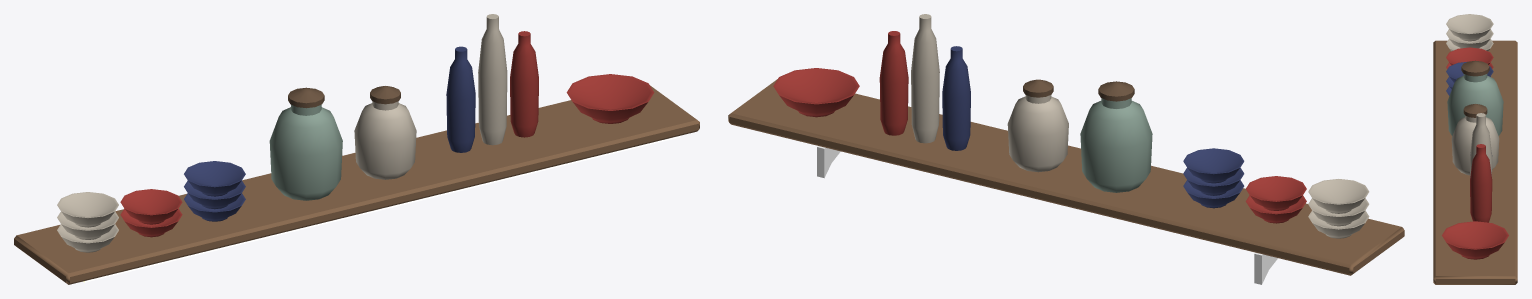
The model's file is deco_wall_shelf_2.glb.
3 renders of one model, left to right at view 1: azimuth 30°, elevation 25°; view 2: azimuth 150°, elevation 25°; view 3: azimuth 270°, elevation 25°, orthographic. The views are drawn at different scales.
Visible parts, largest first — view 1: deco_wall_shelf_2; view 2: deco_wall_shelf_2; view 3: deco_wall_shelf_2.
Boxes of the visible parts, box(x1,y1,x2,y2) form: deco_wall_shelf_2: box(14, 14, 699, 284); deco_wall_shelf_2: box(728, 14, 1404, 284); deco_wall_shelf_2: box(1433, 14, 1517, 284).
Size of the model in its own units: 2 by 0.4999 by 0.3.
